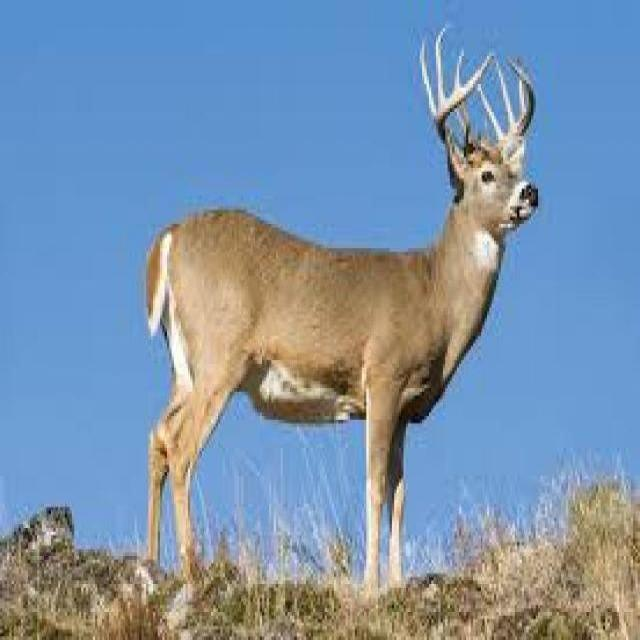deer: (142, 27, 540, 576)
